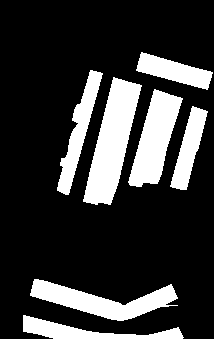parkingspot: (30, 279, 177, 320), (83, 77, 129, 204), (57, 70, 102, 194), (96, 82, 141, 204), (128, 89, 169, 186), (23, 315, 183, 339), (142, 94, 182, 183), (170, 106, 207, 189), (136, 52, 212, 89)
